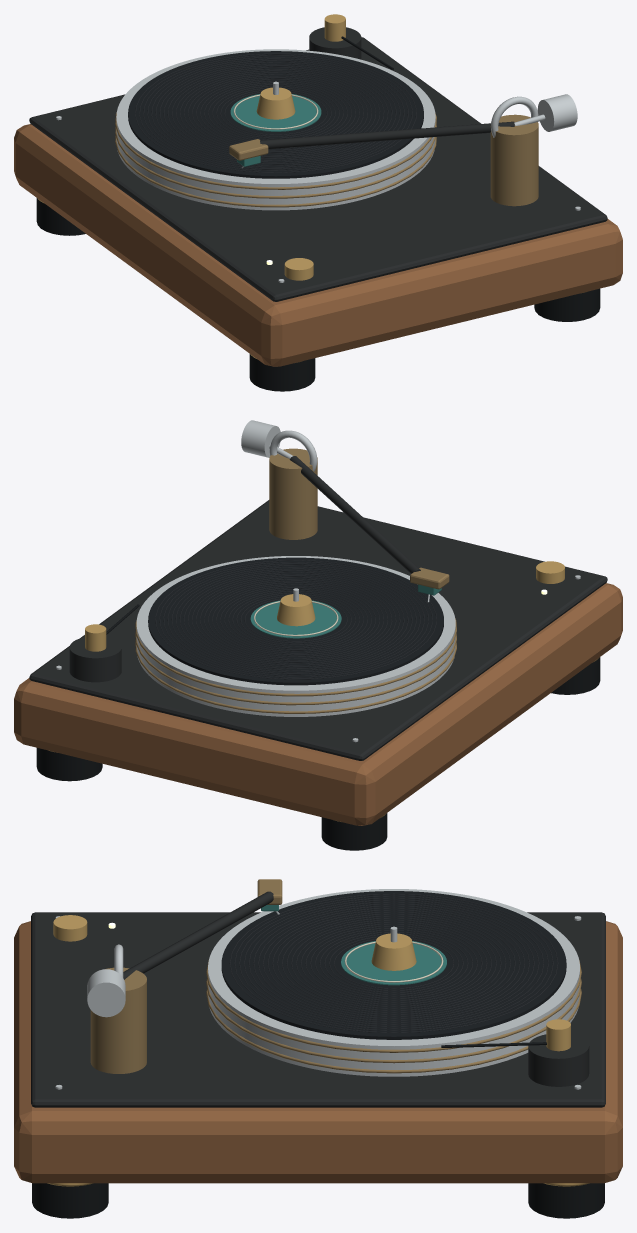
Rendered from turntable-studio.glb.
3 views of the same model, one above another, from view 1: azimuth 30°, elevation 25°; view 2: azimuth 150°, elevation 25°; view 3: azimuth 270°, elevation 25° (orthographic). The views are drawn at different scales.
Parts seen in each view (by area): view 1: part::turntable-studio/deep-walnut-plinth-001, part::turntable-studio/machined-top-plate-001, part::turntable-studio/vinyl-record-001, part::turntable-studio/bearing-platter-001, part::turntable-studio/arm-bearing-tower-001, part::turntable-studio/carbon-tonearm-001, part::turntable-studio/printed-center-label-001, part::turntable-studio/adjustable-isolation-foot-004, part::turntable-studio/adjustable-isolation-foot-003, part::turntable-studio/balanced-counterweight-001, part::turntable-studio/platter-machined-edge-001, part::turntable-studio/platter-machined-edge-003 (+18 smaller); view 2: part::turntable-studio/deep-walnut-plinth-001, part::turntable-studio/machined-top-plate-001, part::turntable-studio/vinyl-record-001, part::turntable-studio/bearing-platter-001, part::turntable-studio/arm-bearing-tower-001, part::turntable-studio/motor-pod-001, part::turntable-studio/printed-center-label-001, part::turntable-studio/adjustable-isolation-foot-002, part::turntable-studio/carbon-tonearm-001, part::turntable-studio/adjustable-isolation-foot-001, part::turntable-studio/platter-machined-edge-003, part::turntable-studio/platter-machined-edge-002 (+17 smaller); view 3: part::turntable-studio/deep-walnut-plinth-001, part::turntable-studio/machined-top-plate-001, part::turntable-studio/vinyl-record-001, part::turntable-studio/bearing-platter-001, part::turntable-studio/arm-bearing-tower-001, part::turntable-studio/motor-pod-001, part::turntable-studio/printed-center-label-001, part::turntable-studio/adjustable-isolation-foot-001, part::turntable-studio/adjustable-isolation-foot-003, part::turntable-studio/carbon-tonearm-001, part::turntable-studio/balanced-counterweight-001, part::turntable-studio/platter-machined-edge-003 (+24 smaller).
Part boxes in pixels (x1,y1,x2,y2): part::turntable-studio/deep-walnut-plinth-001: (14,124,622,366); part::turntable-studio/machined-top-plate-001: (29,37,607,301); part::turntable-studio/vinyl-record-001: (128,51,423,178); part::turntable-studio/bearing-platter-001: (116,49,435,210); part::turntable-studio/arm-bearing-tower-001: (490,114,538,206); part::turntable-studio/carbon-tonearm-001: (260,121,514,149); part::turntable-studio/printed-center-label-001: (230,94,321,131); part::turntable-studio/adjustable-isolation-foot-004: (249,354,315,391); part::turntable-studio/adjustable-isolation-foot-003: (534,288,600,321); part::turntable-studio/balanced-counterweight-001: (537,94,577,131); part::turntable-studio/platter-machined-edge-001: (115,136,436,207); part::turntable-studio/platter-machined-edge-003: (115,112,436,189); part::turntable-studio/deep-walnut-plinth-001: (14,583,622,825); part::turntable-studio/machined-top-plate-001: (29,500,607,760); part::turntable-studio/vinyl-record-001: (148,557,443,685); part::turntable-studio/bearing-platter-001: (136,556,455,716); part::turntable-studio/arm-bearing-tower-001: (269,448,317,539); part::turntable-studio/motor-pod-001: (69,637,121,682); part::turntable-studio/printed-center-label-001: (250,600,341,638); part::turntable-studio/adjustable-isolation-foot-002: (321,813,387,850); part::turntable-studio/carbon-tonearm-001: (289,456,420,573); part::turntable-studio/adjustable-isolation-foot-001: (36,748,102,781); part::turntable-studio/platter-machined-edge-003: (135,618,456,696); part::turntable-studio/platter-machined-edge-002: (135,632,456,705); part::turntable-studio/deep-walnut-plinth-001: (14,921,622,1183); part::turntable-studio/machined-top-plate-001: (31,912,605,1107); part::turntable-studio/vinyl-record-001: (221,891,566,1039); part::turntable-studio/bearing-platter-001: (208,889,579,1076); part::turntable-studio/arm-bearing-tower-001: (90,967,146,1073); part::turntable-studio/motor-pod-001: (528,1034,589,1086); part::turntable-studio/printed-center-label-001: (341,941,446,985); part::turntable-studio/adjustable-isolation-foot-001: (528,1183,604,1218); part::turntable-studio/adjustable-isolation-foot-003: (32,1183,108,1218); part::turntable-studio/carbon-tonearm-001: (123,891,273,979); part::turntable-studio/balanced-counterweight-001: (87,969,125,1017); part::turntable-studio/platter-machined-edge-003: (206,959,581,1052).
Bounding box in the file's own units: 0.43 × 0.232 × 0.54.
